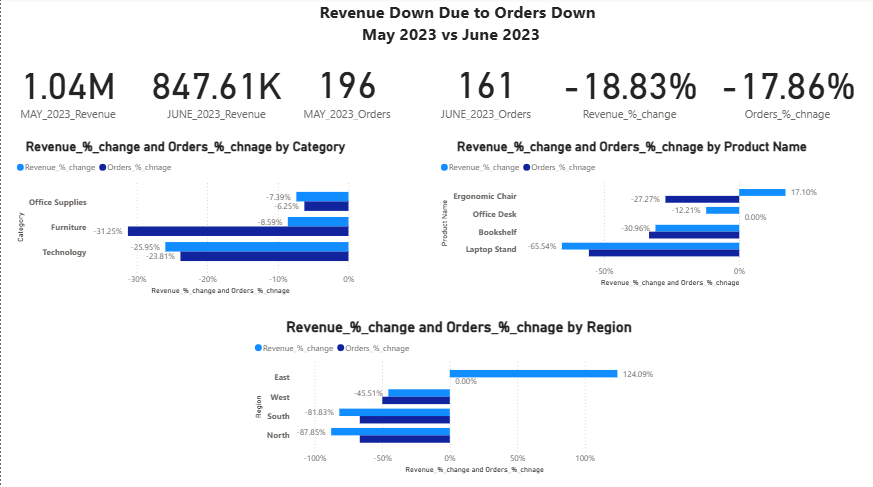

The page's visual inventory and layout, read from the dashboard file:
{"tool":"powerbi","page":{"name":"Revenue Analysis - Orders Down","canvas":[1280,720],"ordinal":0},"visuals":[{"type":"card","fields":{"Values":["Retail_Sales_Analysis_Dataset.MAY_2023_Revenue"]},"box":[0,76.4,196.9,114.6],"z":0},{"type":"card","fields":{"Values":["Retail_Sales_Analysis_Dataset.JUNE_2023_Revenue"]},"box":[207.2,76.4,218.9,114.6],"z":1000},{"type":"card","fields":{"Values":["Retail_Sales_Analysis_Dataset.MAY_2023_Orders"]},"box":[412.9,80.8,191,104.3],"z":2000},{"type":"card","fields":{"Values":["Retail_Sales_Analysis_Dataset.JUNE_2023_Orders"]},"box":[640.7,80.8,144,104.3],"z":3000},{"type":"card","fields":{"Values":["Retail_Sales_Analysis_Dataset.Revenue_%_change"]},"box":[812.6,58.8,221.9,149.9],"z":4000},{"type":"card","fields":{"Values":["Retail_Sales_Analysis_Dataset.Orders_%_chnage"]},"box":[1044.7,58.8,221.9,149.9],"z":5000},{"type":"clusteredBarChart","fields":{"Category":["Retail_Sales_Analysis_Dataset.Category"],"Y":["Retail_Sales_Analysis_Dataset.Revenue_%_change","Retail_Sales_Analysis_Dataset.Orders_%_chnage"]},"box":[17.6,208.7,506.9,233.6],"z":6000},{"type":"clusteredBarChart","fields":{"Category":["Retail_Sales_Analysis_Dataset.Product Name"],"Y":["Retail_Sales_Analysis_Dataset.Revenue_%_change","Retail_Sales_Analysis_Dataset.Orders_%_chnage"]},"box":[640.7,208.7,573.1,221.9],"z":7000},{"type":"clusteredBarChart","fields":{"Category":["Retail_Sales_Analysis_Dataset.Region"],"Y":["Retail_Sales_Analysis_Dataset.Revenue_%_change","Retail_Sales_Analysis_Dataset.Orders_%_chnage"]},"box":[367.3,471.7,611.3,233.6],"z":8000},{"type":"textbox","box":[74.9,0,1191.7,76.4],"z":9000}]}

Visuals, with their boxes in screenshot pixels (x1, y1, x2, y2), scaled from the page's 1280x720 canvas onto the 873x487 screenshot:
card - Retail_Sales_Analysis_Dataset.MAY_2023_Revenue: [0, 52, 134, 129]
card - Retail_Sales_Analysis_Dataset.JUNE_2023_Revenue: [141, 52, 291, 129]
card - Retail_Sales_Analysis_Dataset.MAY_2023_Orders: [282, 55, 412, 125]
card - Retail_Sales_Analysis_Dataset.JUNE_2023_Orders: [437, 55, 535, 125]
card - Retail_Sales_Analysis_Dataset.Revenue_%_change: [554, 40, 706, 141]
card - Retail_Sales_Analysis_Dataset.Orders_%_chnage: [713, 40, 864, 141]
clusteredBarChart - Retail_Sales_Analysis_Dataset.Category x Retail_Sales_Analysis_Dataset.Revenue_%_change: [12, 141, 358, 299]
clusteredBarChart - Retail_Sales_Analysis_Dataset.Product Name x Retail_Sales_Analysis_Dataset.Revenue_%_change: [437, 141, 828, 291]
clusteredBarChart - Retail_Sales_Analysis_Dataset.Region x Retail_Sales_Analysis_Dataset.Revenue_%_change: [251, 319, 667, 477]
textbox: [51, 0, 864, 52]
